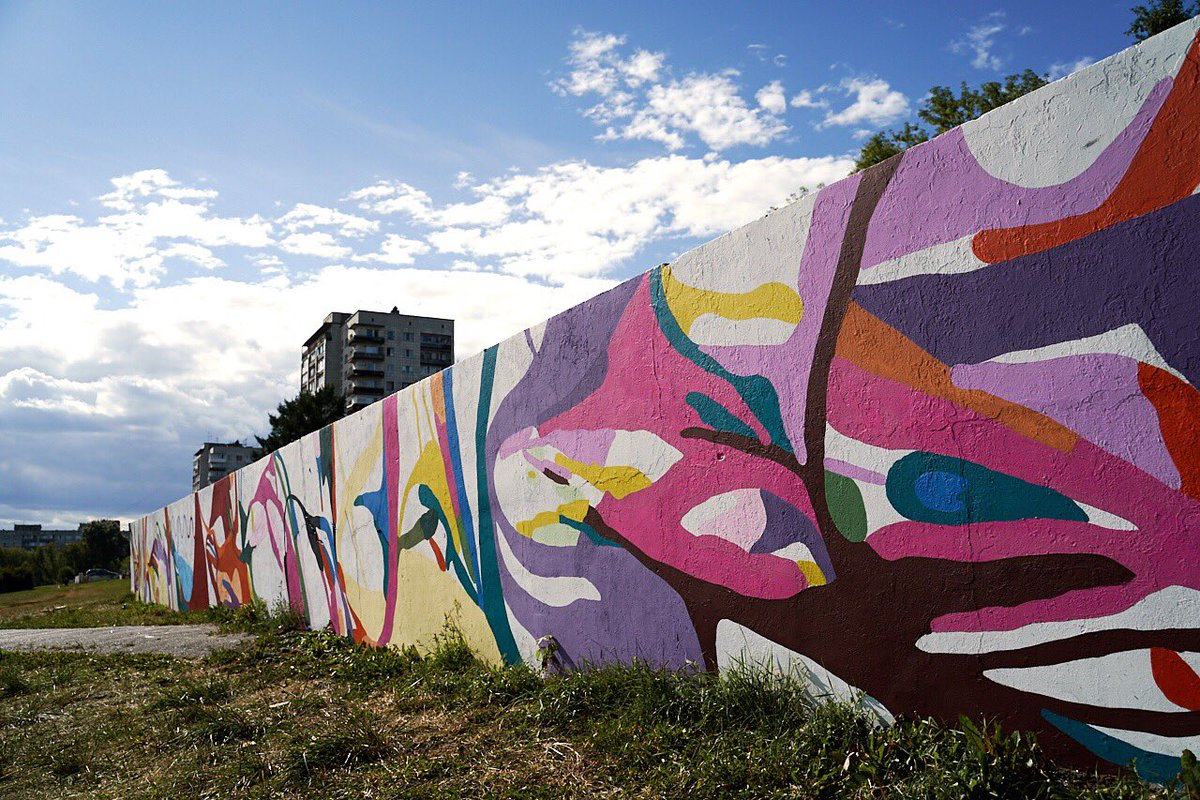graphite: (701, 193, 1169, 739), (370, 394, 693, 677), (212, 465, 364, 650), (129, 517, 210, 605)
